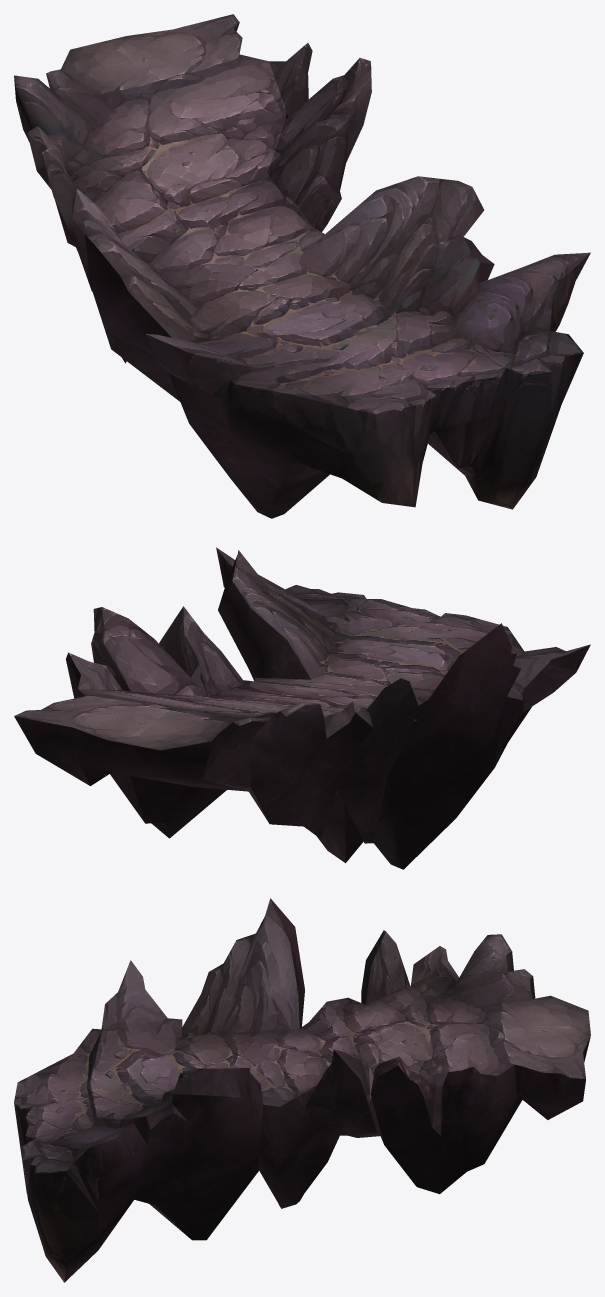
File: rongyan_stone_10.FBX
3 renders of one model, top to bottom at view 1: azimuth 30°, elevation 25°; view 2: azimuth 150°, elevation 25°; view 3: azimuth 270°, elevation 25°, orthographic. The views are drawn at different scales.
Parts seen in each view (by area): view 1: rongyan_stone_10; view 2: rongyan_stone_10; view 3: rongyan_stone_10.
Part boxes in pixels (x1,y1,x2,y2): rongyan_stone_10: (14, 14, 590, 518); rongyan_stone_10: (14, 547, 590, 869); rongyan_stone_10: (14, 898, 590, 1282).
Bounding box in the file's own units: 1031 × 764 × 1439.
